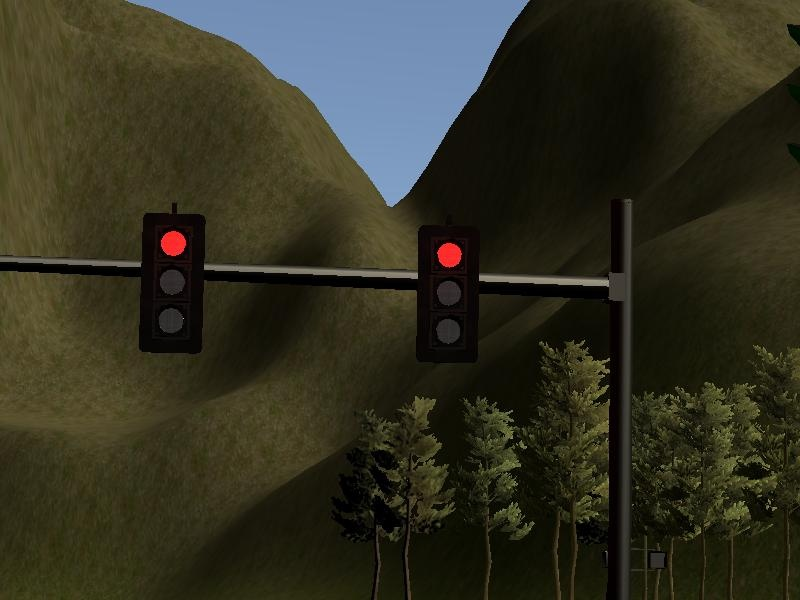red: (137, 209, 206, 356), (414, 226, 483, 366)
